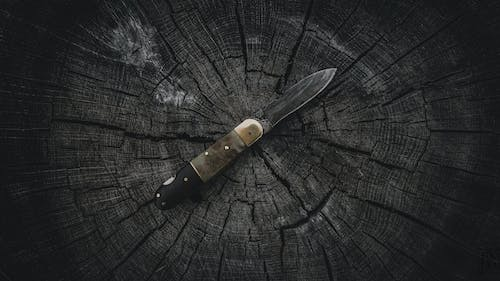knife: (153, 66, 339, 211)
